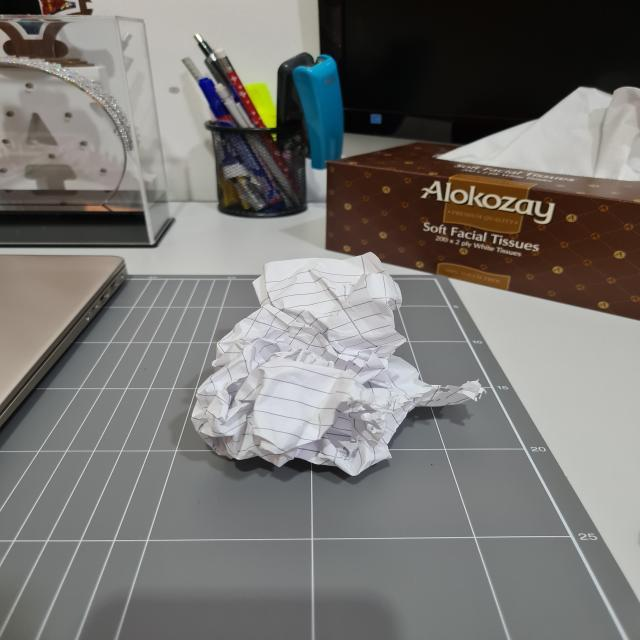cardboard paper: (191, 256, 483, 476), (325, 142, 638, 317), (442, 87, 639, 180)
